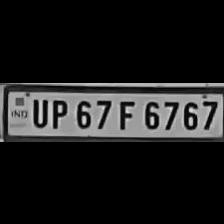6: (139, 96, 161, 128), (72, 96, 92, 128), (179, 97, 199, 129)
7: (92, 96, 112, 128), (160, 97, 178, 129), (200, 97, 218, 129)
F: (114, 96, 136, 130)
P: (48, 95, 68, 127)
U: (28, 94, 48, 126)
